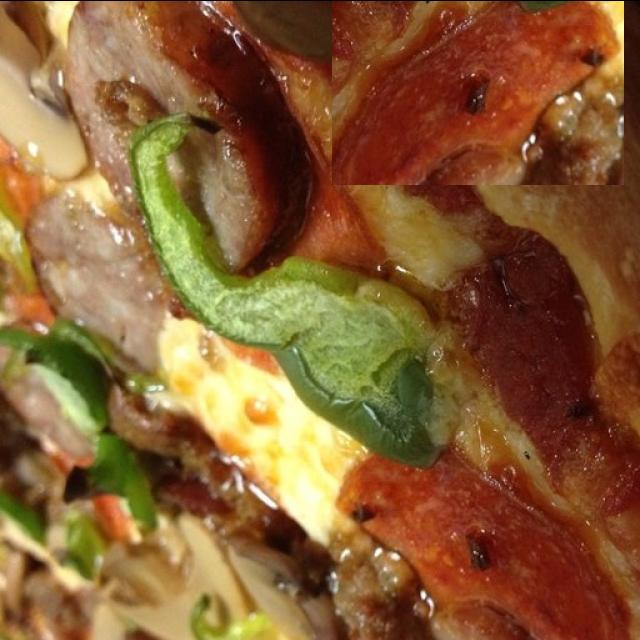pepperoni: (332, 0, 624, 184)
pizza: (0, 0, 640, 640)
